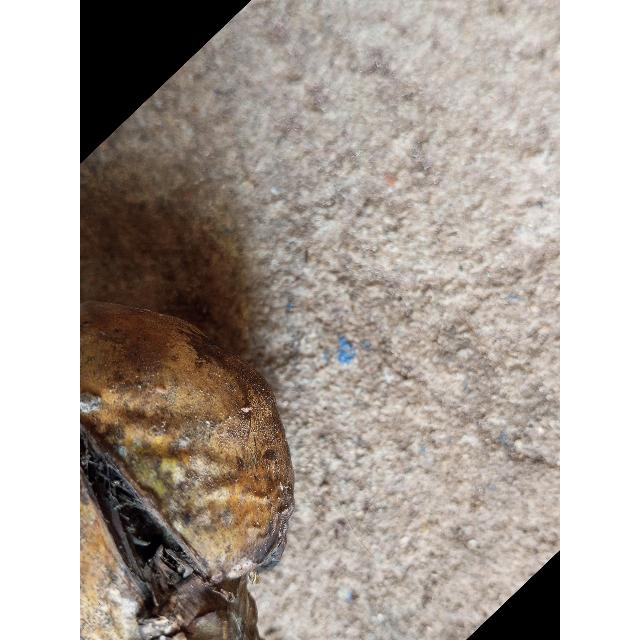damaged: (80, 300, 294, 640)
